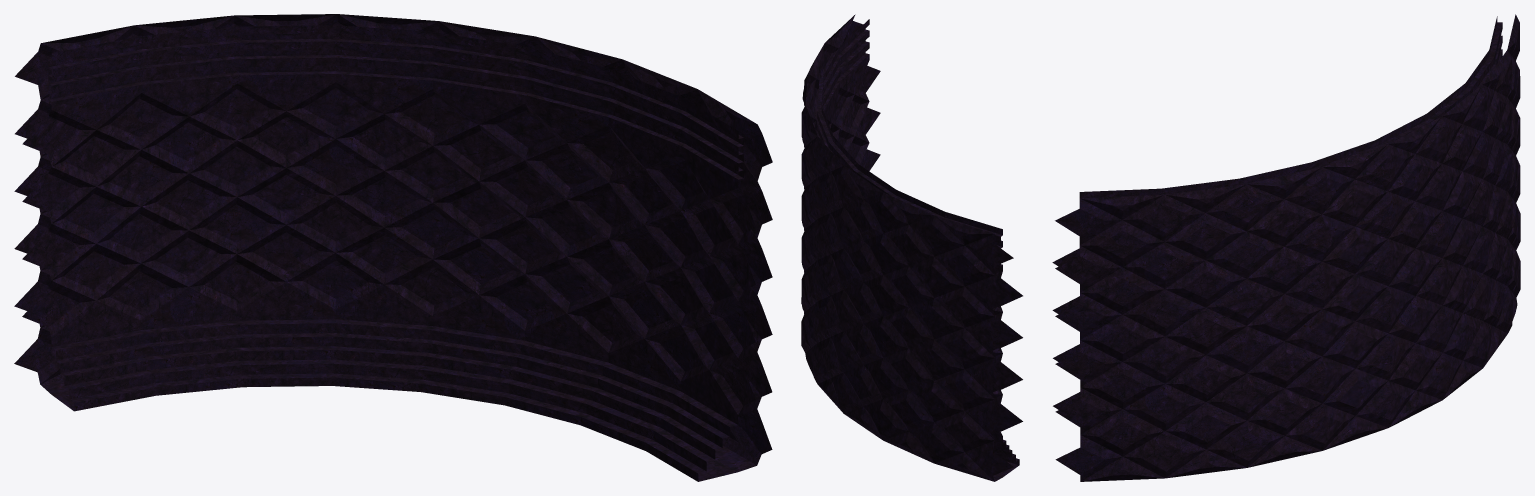
Rendered from mdl_duc_sci_planetariumcylinder_3of4.glb.
3 renders of one model, left to right at view 1: azimuth 30°, elevation 25°; view 2: azimuth 150°, elevation 25°; view 3: azimuth 270°, elevation 25°, orthographic. The views are drawn at different scales.
Visible parts, largest first — view 1: Cylindrical Wall 3/4; view 2: Cylindrical Wall 3/4; view 3: Cylindrical Wall 3/4.
Boxes of the visible parts, x1,y1,x2,y2 form: Cylindrical Wall 3/4: [14, 14, 772, 481]; Cylindrical Wall 3/4: [801, 14, 1022, 481]; Cylindrical Wall 3/4: [1052, 14, 1520, 481].
Bounding box in the file's own units: 1.1 × 0.7389 × 1.1.
1 material, 1 textured.
